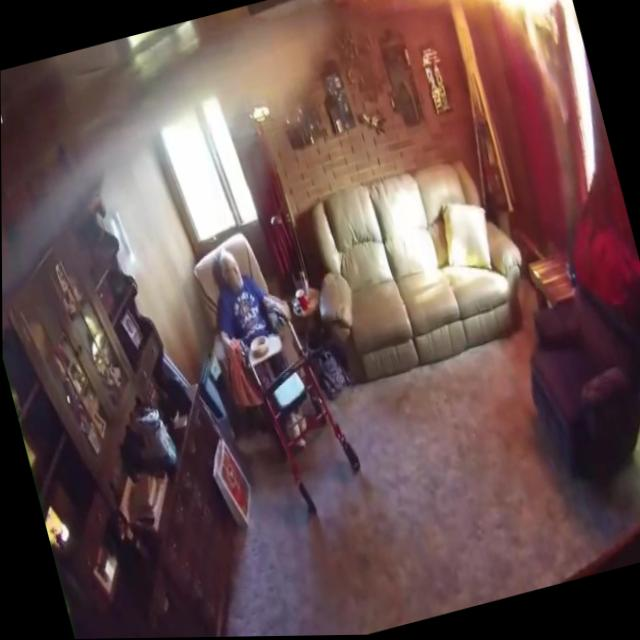fire: (363, 0, 580, 82)
